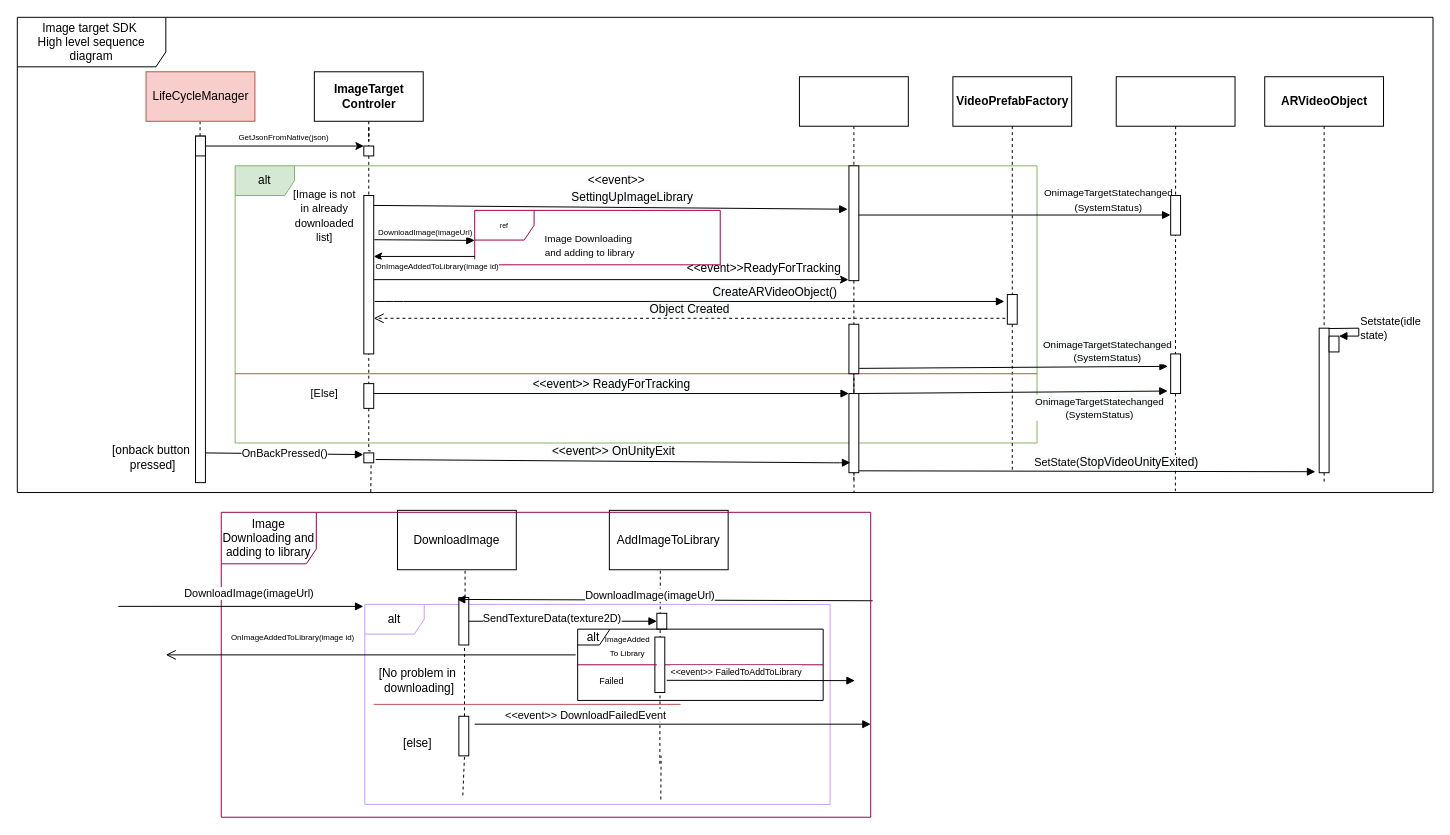
Some shapes in this 1450 by 835 pixel diagram are drawn without their labels. The centre of each missing label's shape, as x and y in pixels:
Eventbus: the point at 853,101
HUD Elements: the point at 1175,101
